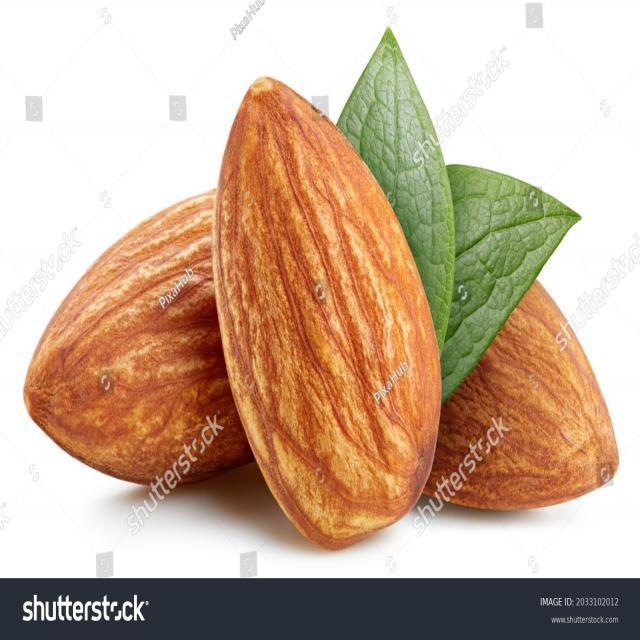almond: (210, 72, 443, 552), (19, 190, 254, 482)
